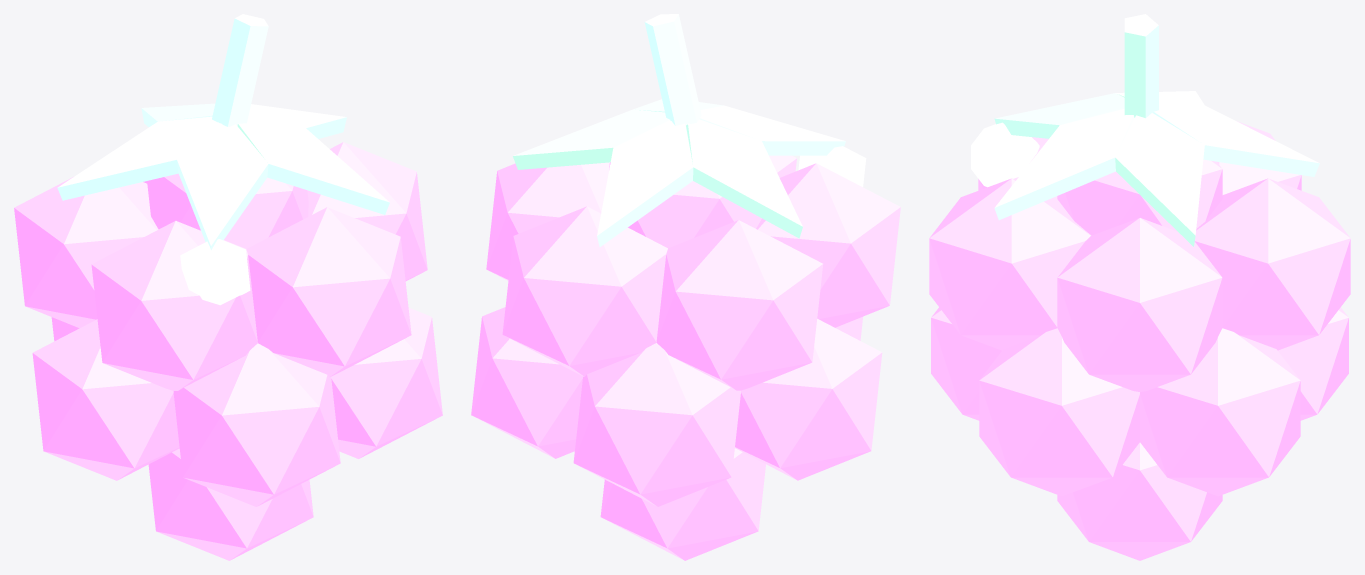
File: fruit_0.glb
The picture shows the model from 3 angles, left to right: view 1: azimuth 30°, elevation 25°; view 2: azimuth 150°, elevation 25°; view 3: azimuth 270°, elevation 25°; orthographic projection. The views are drawn at different scales.
Visible parts, largest first — view 1: fruit_0; view 2: fruit_0; view 3: fruit_0.
Boxes of the visible parts, bbox=[...] form: fruit_0: bbox=[14, 14, 442, 560]; fruit_0: bbox=[471, 14, 900, 560]; fruit_0: bbox=[929, 14, 1350, 560].
Bounding box in the file's own units: 0.3275 × 0.4512 × 0.3128.
